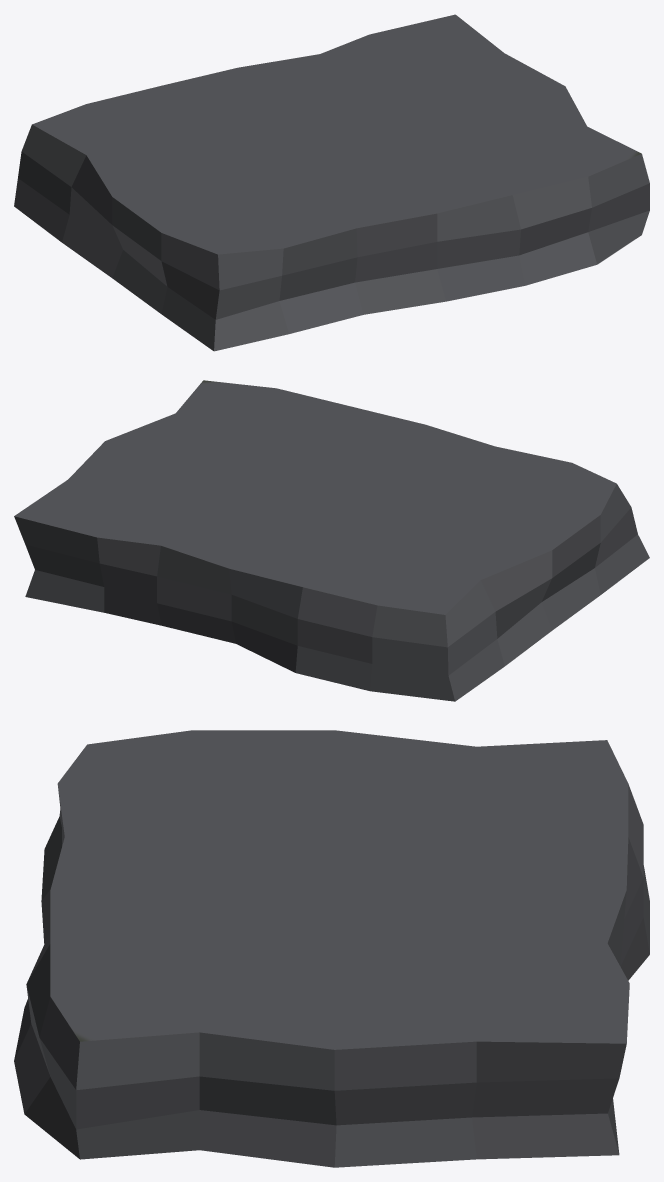
The model's file is slab.glb.
The picture shows the model from 3 angles, top to bottom: view 1: azimuth 30°, elevation 25°; view 2: azimuth 150°, elevation 25°; view 3: azimuth 270°, elevation 25°; orthographic projection. The views are drawn at different scales.
Visible parts, largest first — view 1: Slab; view 2: Slab; view 3: Slab.
Boxes of the visible parts, <box> form: Slab: <box>14,14,649,351</box>; Slab: <box>14,380,649,701</box>; Slab: <box>14,730,649,1167</box>.
Size of the model in its own units: 2.67 by 0.4573 by 2.24.
1 material, 1 textured.
